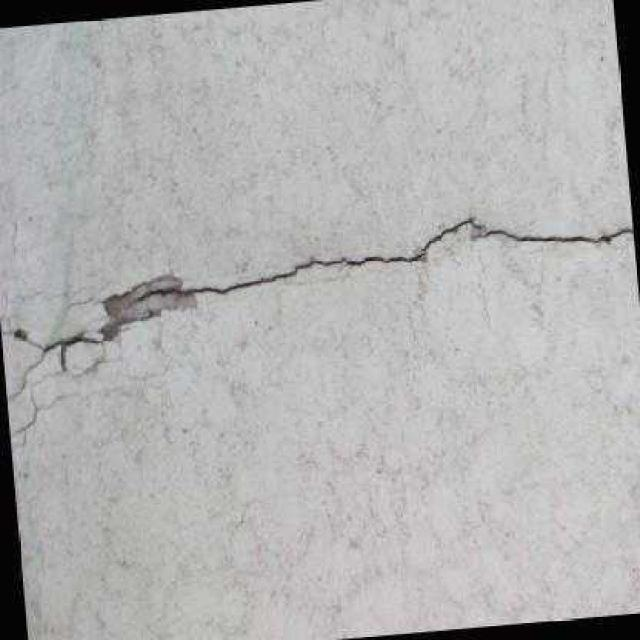D00: (0, 216, 634, 399)
